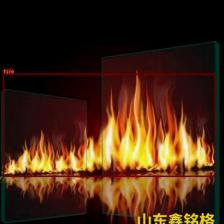fire: (3, 73, 215, 177)
